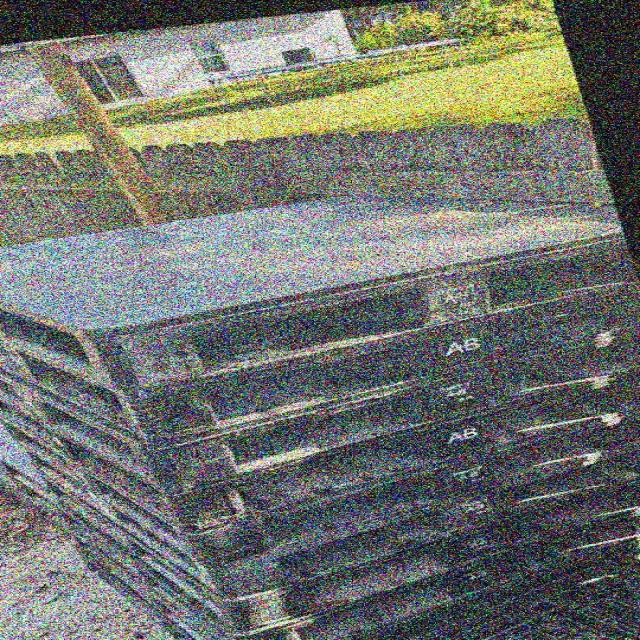non-igps: (0, 187, 639, 396), (0, 315, 639, 501), (0, 269, 639, 451), (0, 362, 639, 541), (12, 396, 639, 575), (21, 440, 638, 605)
